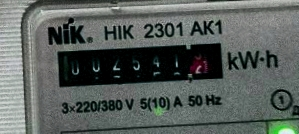0: (67, 55, 81, 76), (88, 52, 101, 74)
1: (169, 47, 181, 70)
2: (108, 50, 123, 73)
4: (149, 47, 161, 69)
5: (128, 49, 142, 73)
6: (191, 62, 203, 74)
screen: (43, 32, 234, 94)
